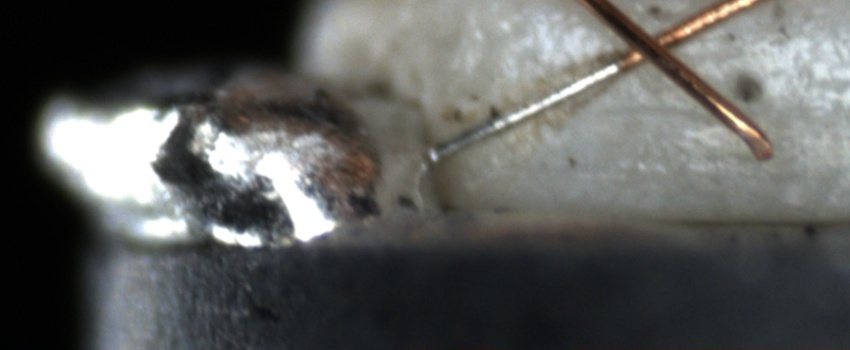CL: (605, 11, 689, 77)
DL: (510, 145, 850, 185), (655, 27, 850, 68)
TS: (426, 60, 622, 162)
